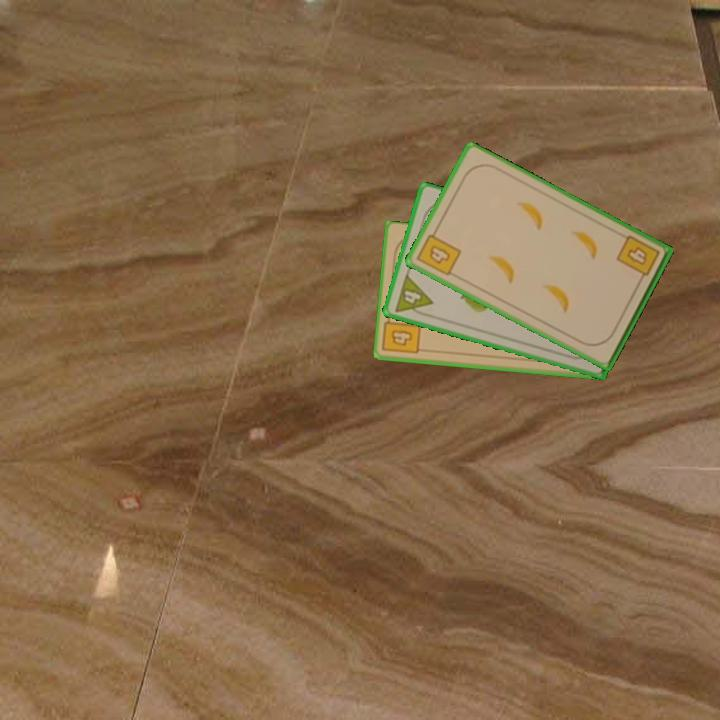4b: (413, 225, 464, 279), (613, 232, 662, 286), (380, 311, 424, 357)
4p: (391, 271, 436, 320)
